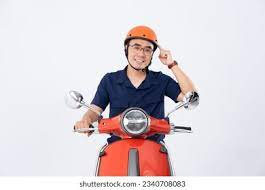helmets: (122, 27, 158, 53)
